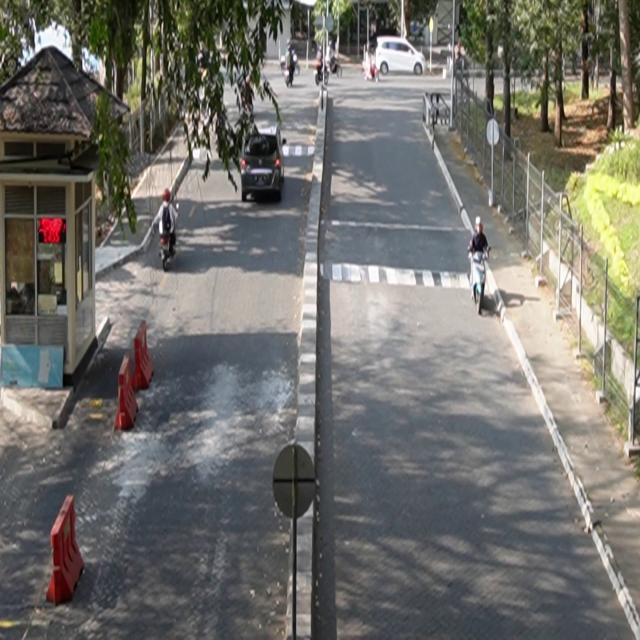car: (240, 124, 287, 203), (376, 37, 428, 77)
